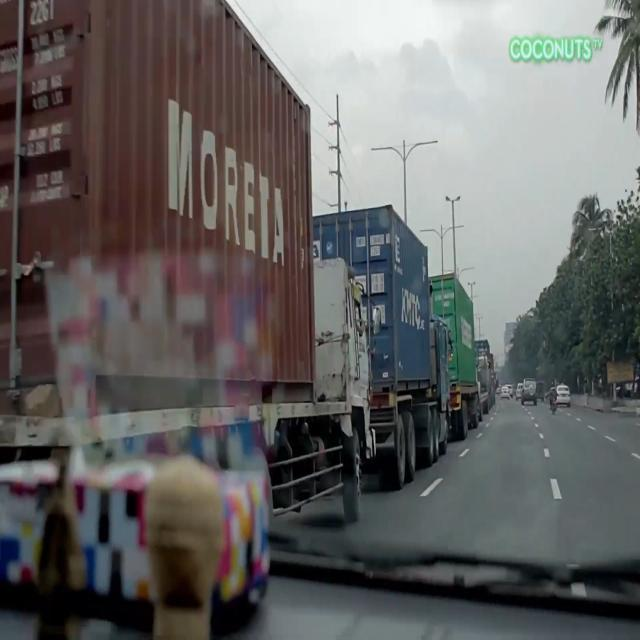truck: (0, 0, 374, 526), (315, 198, 452, 496), (430, 269, 482, 443)
